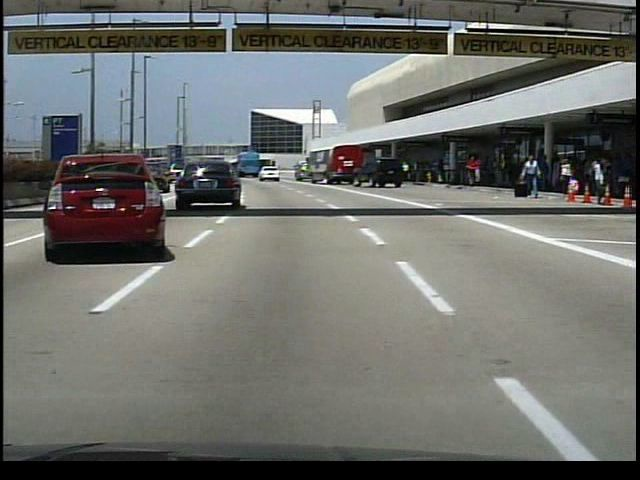person: (517, 153, 539, 199), (464, 156, 481, 187), (400, 162, 412, 186)
